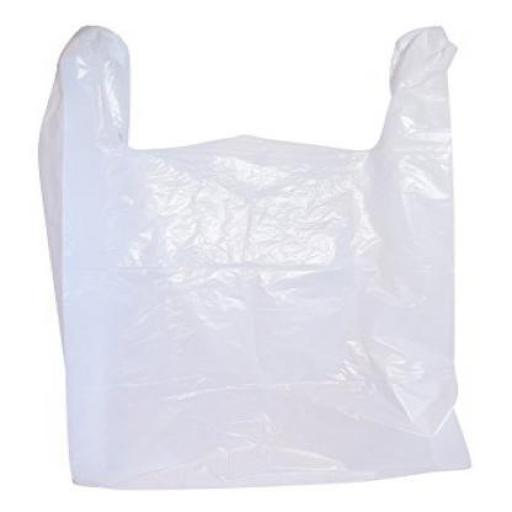plastic bag: (26, 26, 484, 499)
